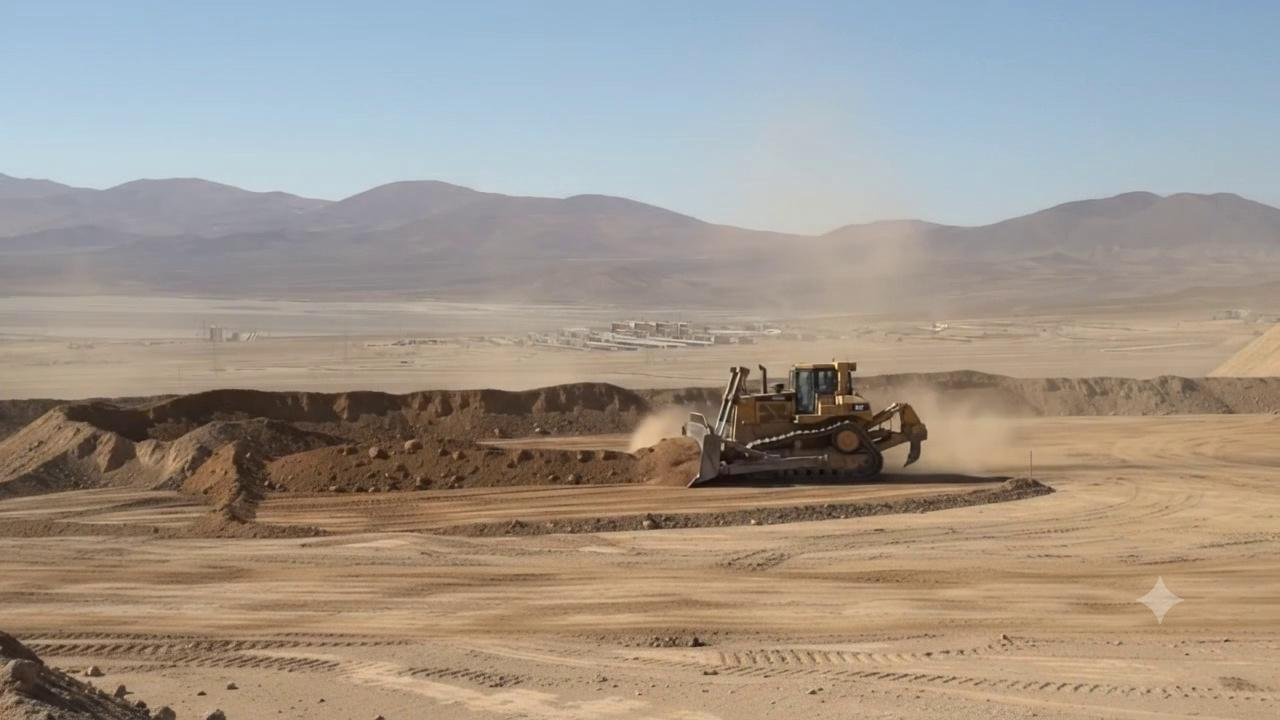CAEX: (685, 362, 928, 485)
